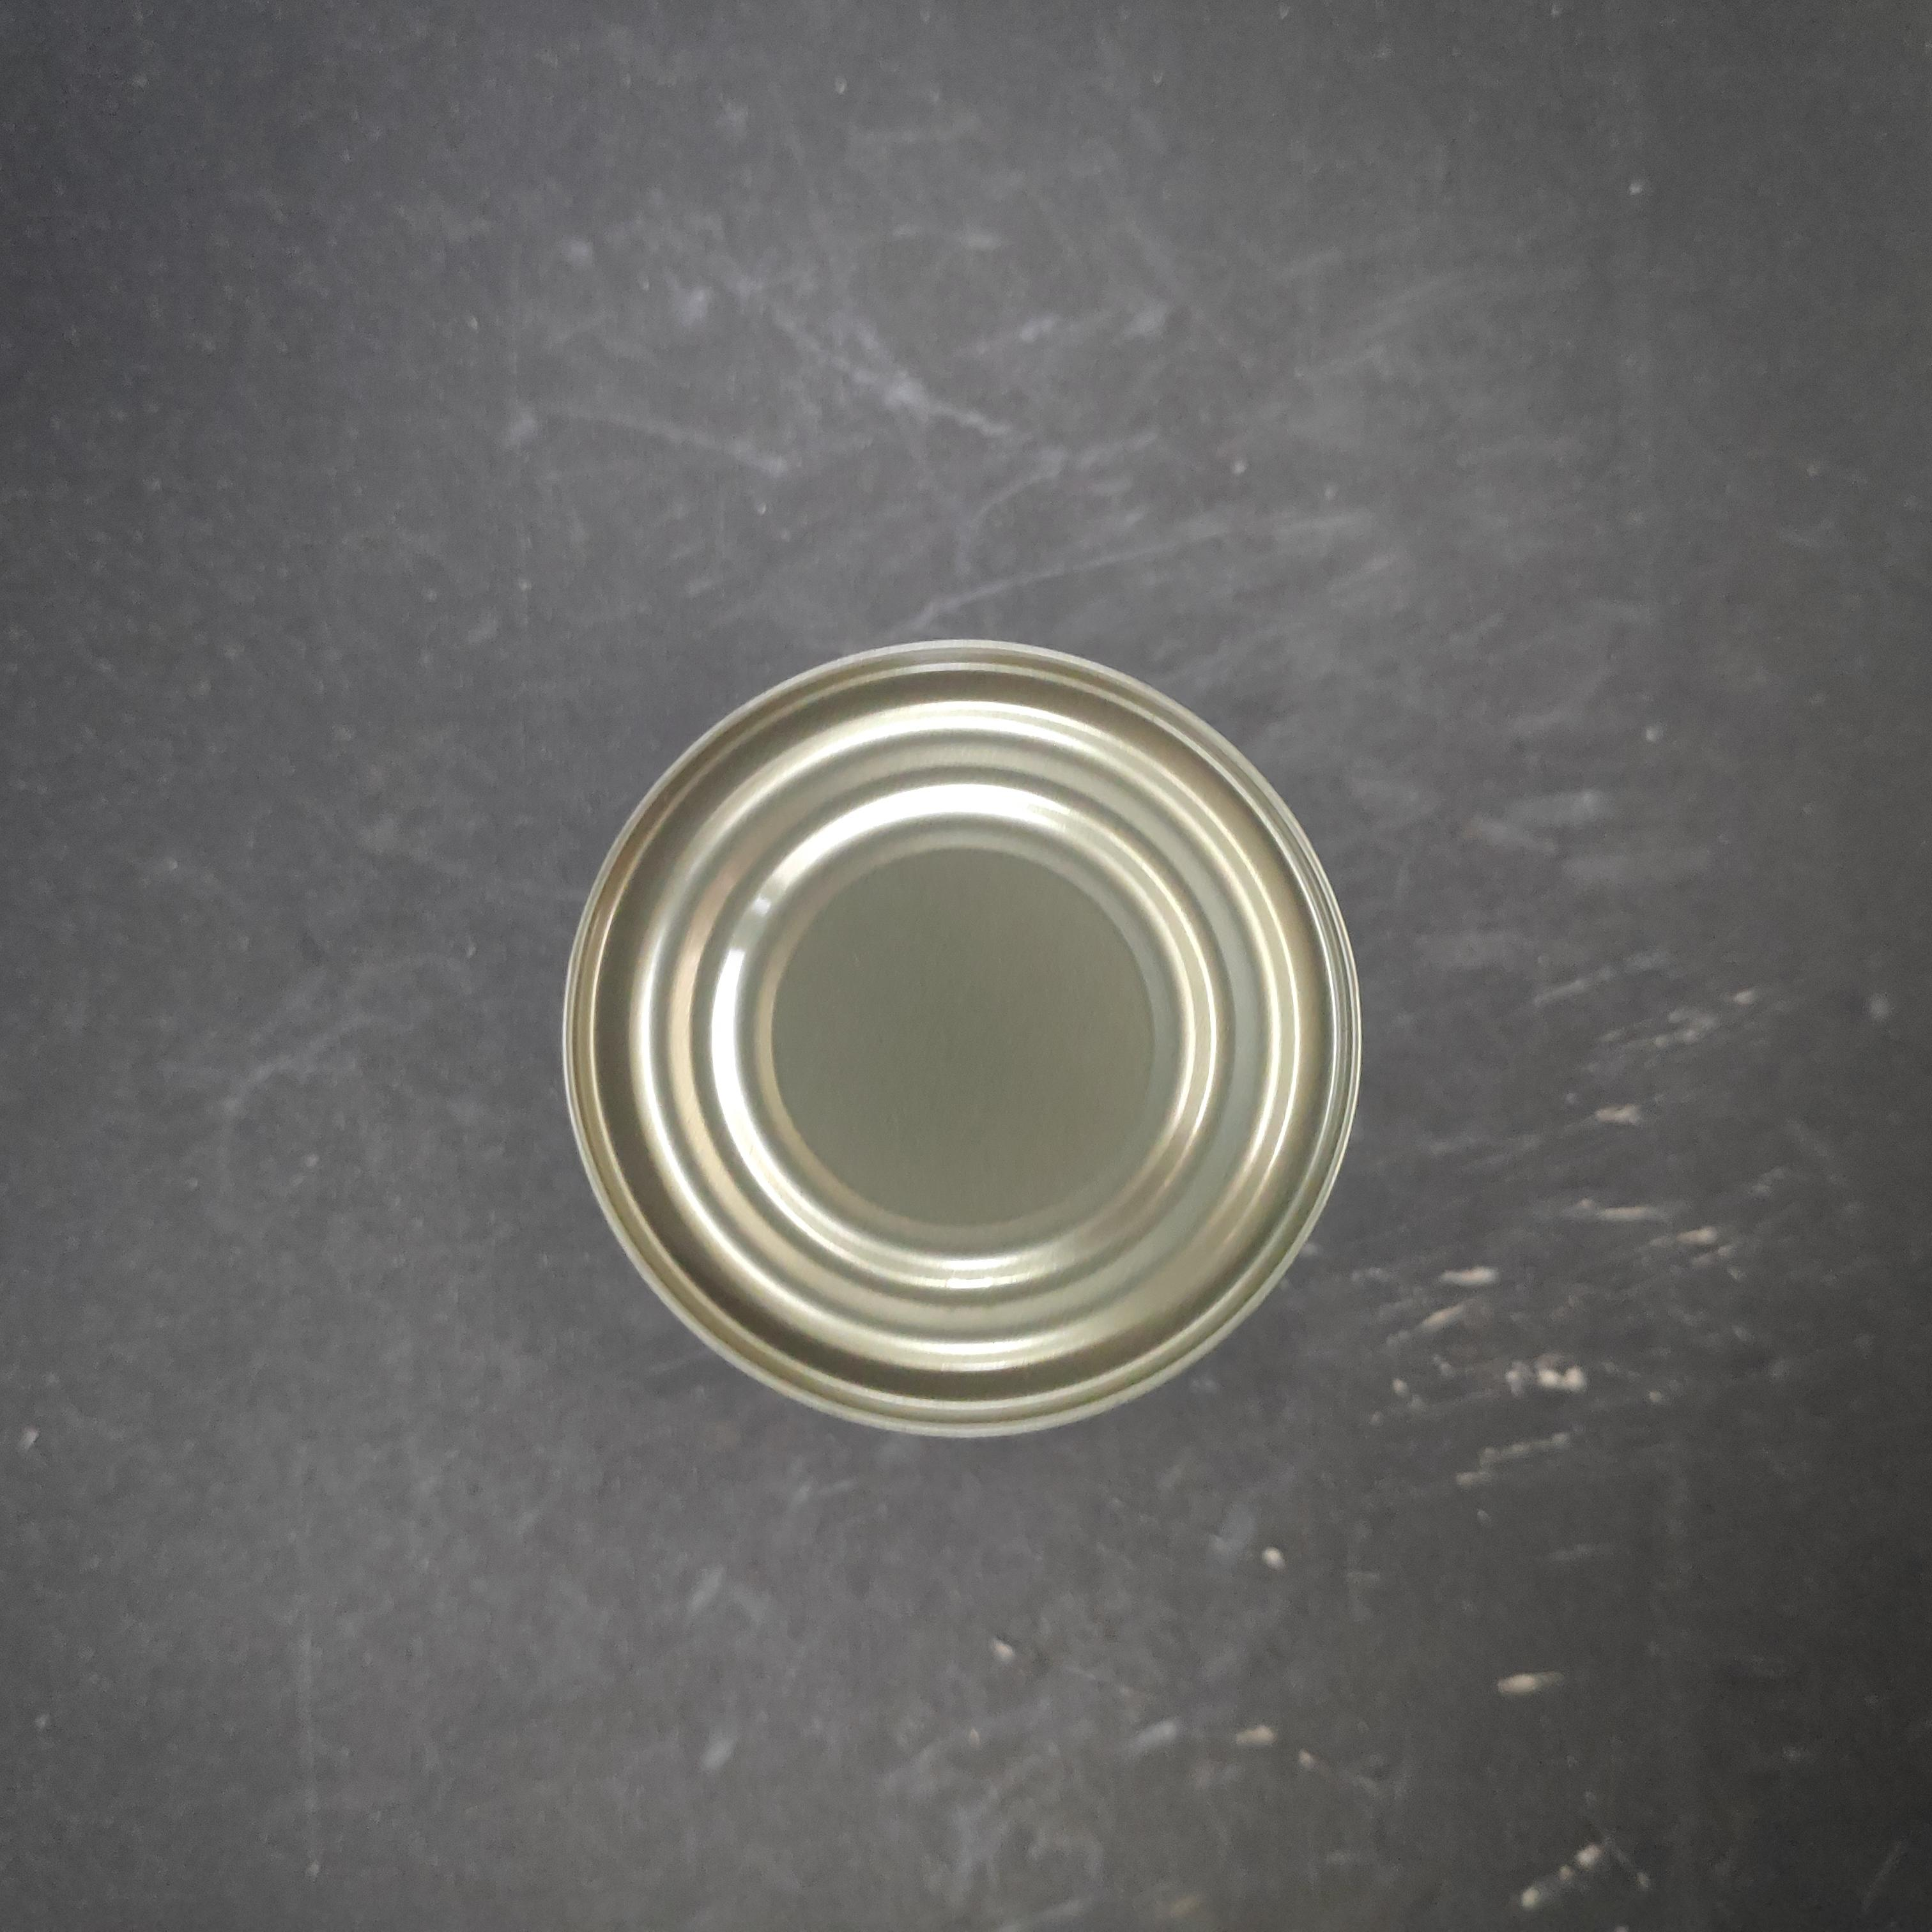No defect: (615, 550, 1460, 1391)
